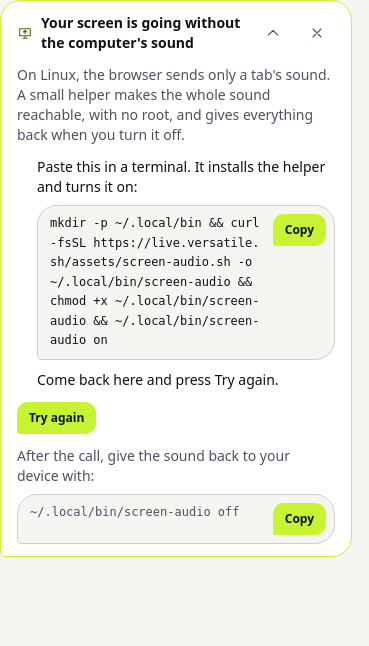
Test: ScreenSoundGuide › on Linux › says the sound is still missing when a retry finds nothing
Click the button "Try again": (57, 418) [17,402,96,434]
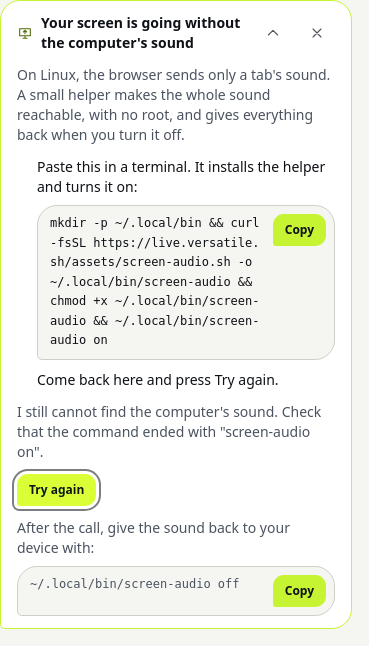
Result: the message shows "I still cannot find the computer's sound" at [17,402,321,460]
